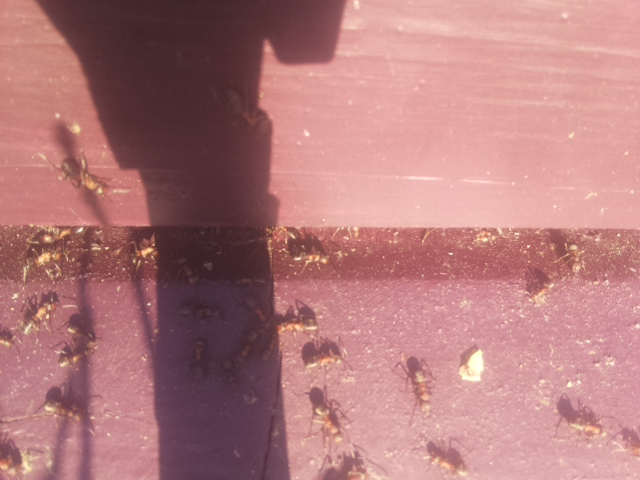ant: (53, 142, 114, 203), (298, 381, 354, 445), (276, 222, 336, 272), (399, 346, 437, 418), (549, 392, 606, 440), (35, 380, 85, 426), (219, 326, 266, 373), (16, 293, 57, 343), (421, 438, 471, 478), (32, 225, 99, 247), (456, 342, 487, 384), (274, 316, 326, 337), (523, 277, 555, 308), (564, 235, 589, 274), (305, 349, 345, 372), (186, 339, 209, 379), (618, 423, 640, 461)
